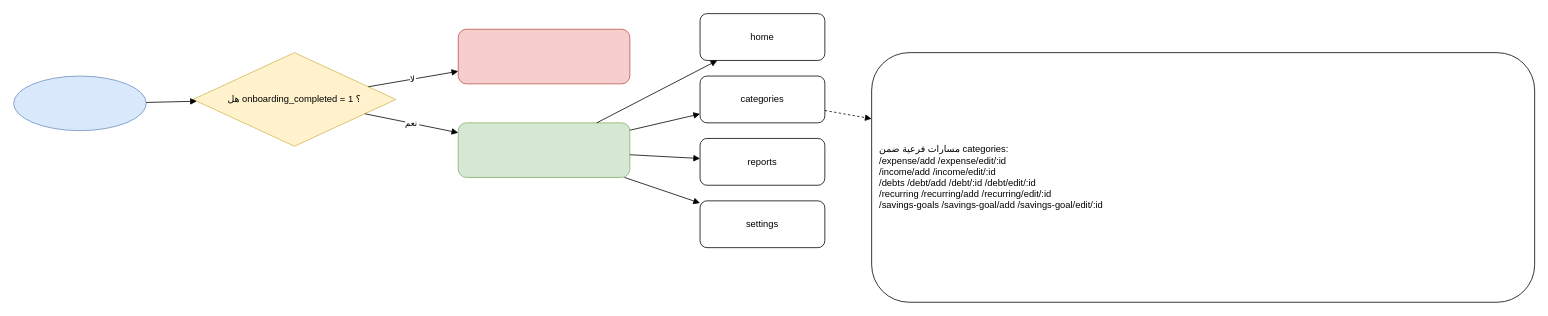
Image size: 1548x316. Some labels were removed from this diagram. The shapes that lost their labels are listed below. From the top down, each one's centre as x and y in pixels, then its label:
the point at 543,56: /onboarding
the point at 79,103: بداية التطبيق
the point at 543,149: MainShell /home
